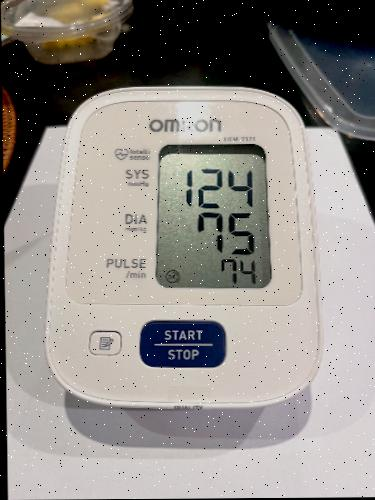bpm: (152, 141, 275, 291)
